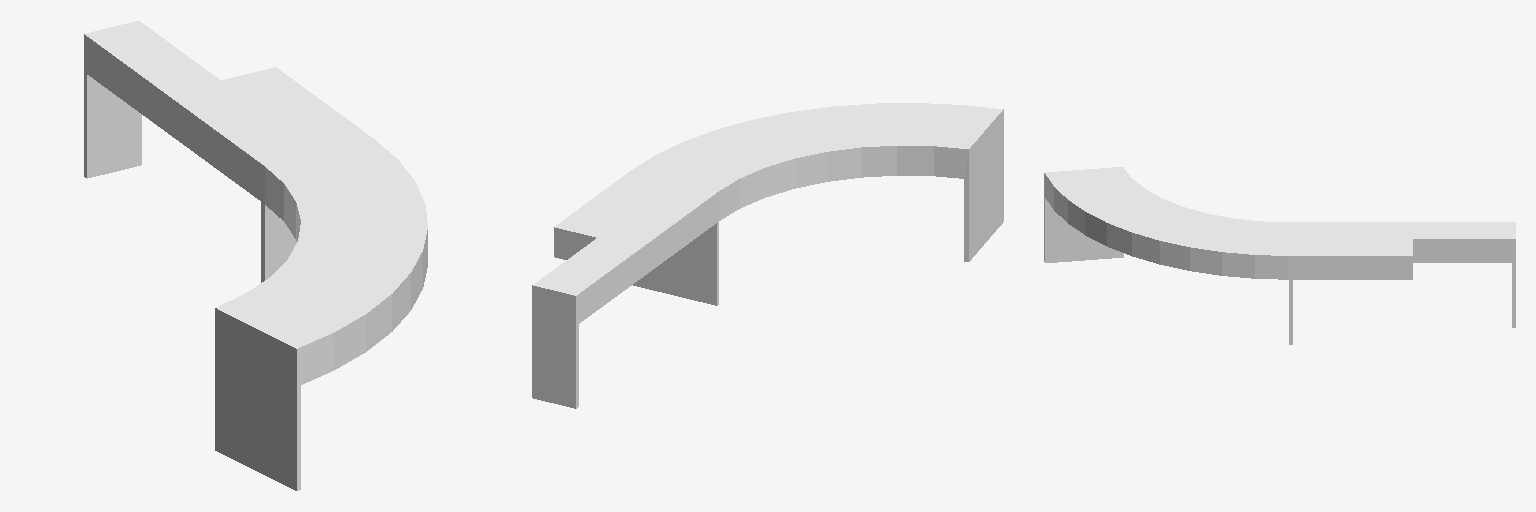
URDF robot description (Officedesk_RL):
<?xml version="1.0" encoding="utf-8"?>
<!-- This URDF was automatically created by SolidWorks to URDF Exporter! Originally created by [author] ([email redacted]) 
     Commit Version: 1.5.1-0-g916b5db  Build Version: 1.5.7152.31018
     For more information, please see http://wiki.ros.org/sw_urdf_exporter -->
<robot
  name="Officedesk_RL">
  <link
    name="Officedesk_RL">
    <inertial>
      <origin
        xyz="-0.29734 -1.2465 0.62911"
        rpy="0 0 0" />
      <mass
        value="449" />
      <inertia
        ixx="418.05"
        ixy="116.78"
        ixz="2.148"
        iyy="79.097"
        iyz="-0.25232"
        izz="486.41" />
    </inertial>
    <visual>
      <origin
        xyz="0 0 0"
        rpy="0 0 0" />
      <geometry>
        <mesh
          filename="package://Officedesk_RL/meshes/Officedesk_RL.STL" />
      </geometry>
      <material
        name="">
        <color
          rgba="1 1 1 1" />
        <texture
          filename="package://Officedesk_RL/textures/" />
      </material>
    </visual>
    <collision>
      <origin
        xyz="0 0 0"
        rpy="0 0 0" />
      <geometry>
        <mesh
          filename="package://Officedesk_RL/meshes/Officedesk_RL.STL" />
      </geometry>
    </collision>
  </link>
</robot>

--- Facts derived from the render (not from the file) ---
Views: 3 orthographic renders of the robot side by side, from view 1: azimuth 30°, elevation 25°; view 2: azimuth 150°, elevation 25°; view 3: azimuth 270°, elevation 25°.
Model Officedesk_RL with 1 links and 0 joints (none), rooted at Officedesk_RL, posed all joints at 0.
Visible links, largest first — view 1: Officedesk_RL; view 2: Officedesk_RL; view 3: Officedesk_RL.
Link boxes in pixels (x1=…): Officedesk_RL: x1=84, y1=21, x2=427, y2=490; Officedesk_RL: x1=532, y1=103, x2=1003, y2=408; Officedesk_RL: x1=1044, y1=167, x2=1515, y2=344.
Bounding box of the posed robot: 1.61 × 3.59 × 0.75 m (x, y, z).
1 mesh visuals loaded from 1 distinct referenced files (1 binary STL).